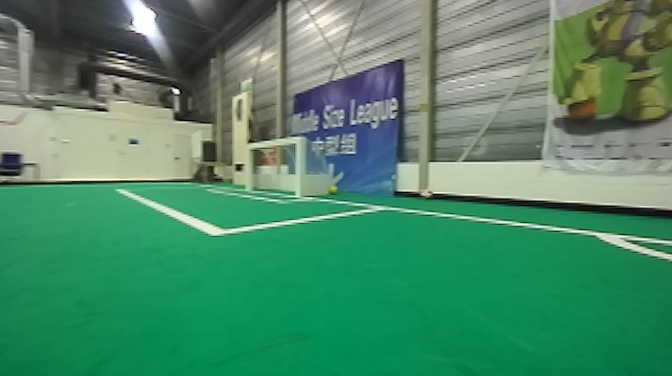ball: (418, 181, 442, 204), (327, 183, 341, 197)
goalpost: (290, 130, 312, 214), (240, 135, 259, 195)
